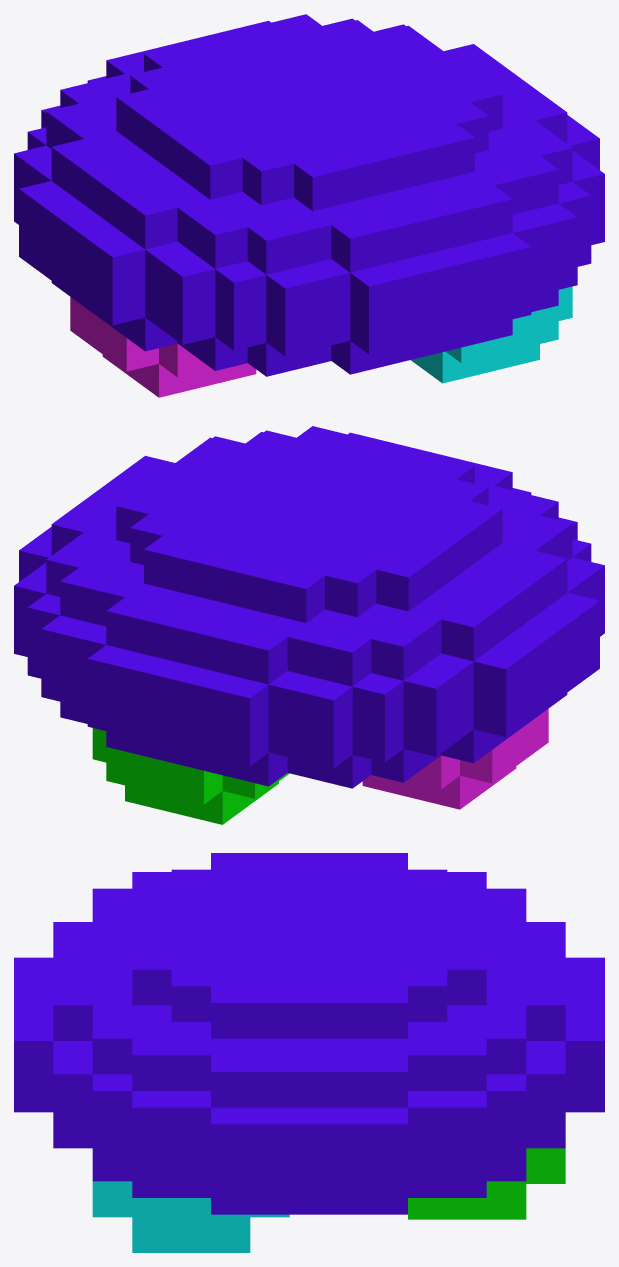
File: ufo.obj
3 views of the same model, one above another, from view 1: azimuth 30°, elevation 25°; view 2: azimuth 150°, elevation 25°; view 3: azimuth 270°, elevation 25° (orthographic). The views are drawn at different scales.
Parts seen in each view (by area): view 1: Cube.012_Cube.472; view 2: Cube.012_Cube.472; view 3: Cube.012_Cube.472.
Boxes of the visible parts, bbox=[...] form: Cube.012_Cube.472: bbox=[14, 14, 604, 397]; Cube.012_Cube.472: bbox=[14, 426, 604, 824]; Cube.012_Cube.472: bbox=[14, 853, 604, 1252].
Size of the model in its own units: 0.9375 by 0.4375 by 0.9375.
